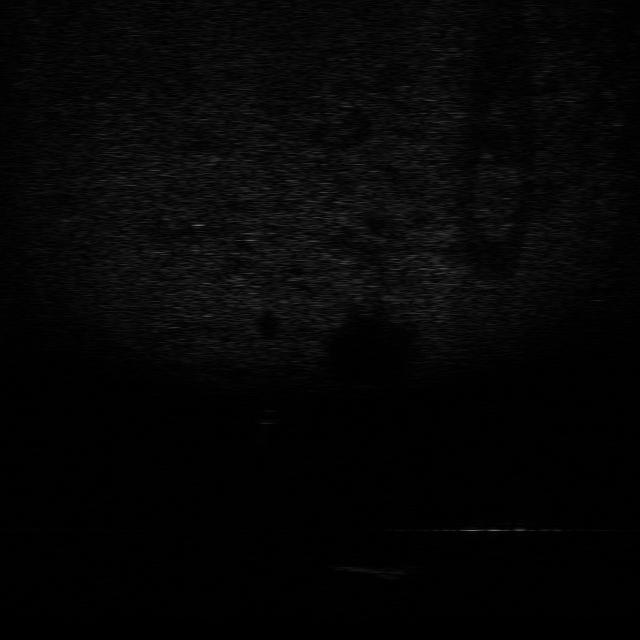ball: (250, 407, 286, 426)
metal bucket: (328, 560, 417, 582)
tyre: (450, 514, 570, 536)
